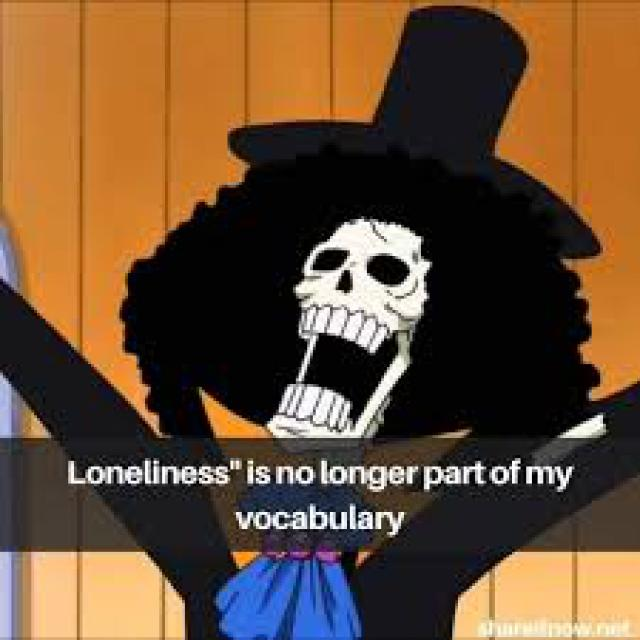Brook: (119, 6, 600, 444)
